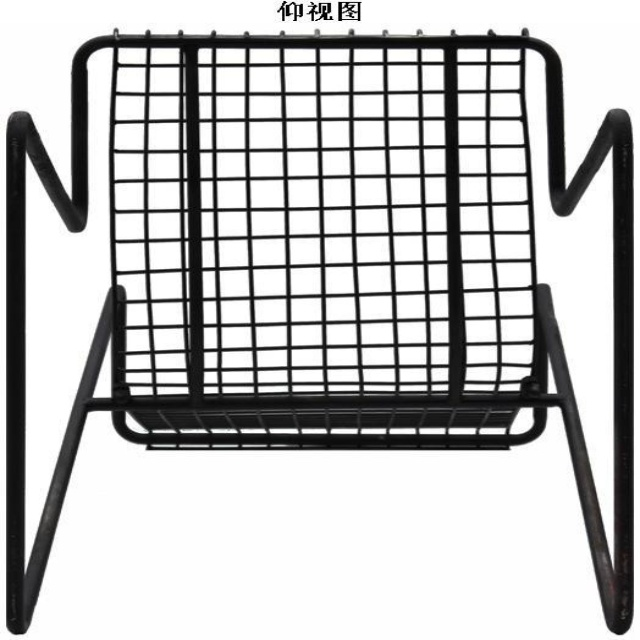obstacle: (6, 34, 633, 632)
